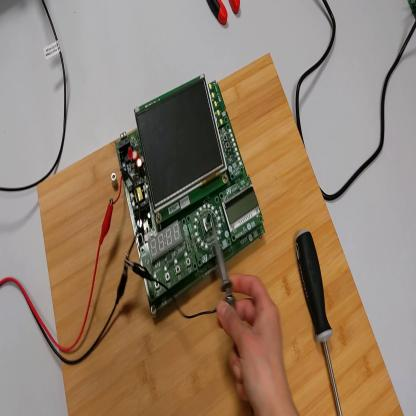hand: (218, 274, 289, 406)
low voltage board: (112, 73, 265, 312)
oscilloscope probe tip: (209, 230, 233, 307)
pliers: (208, 1, 242, 27)
screwdriver-: (294, 233, 344, 416)
working area: (37, 54, 404, 416)
